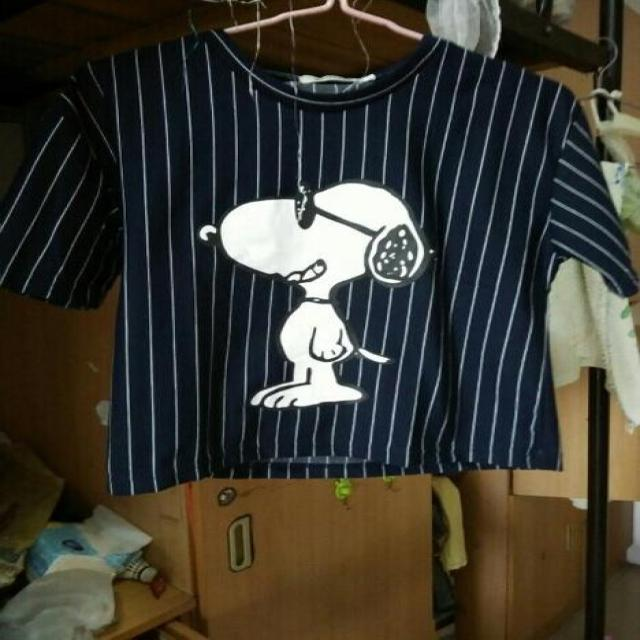short-sleeve-top: (22, 33, 640, 490)
